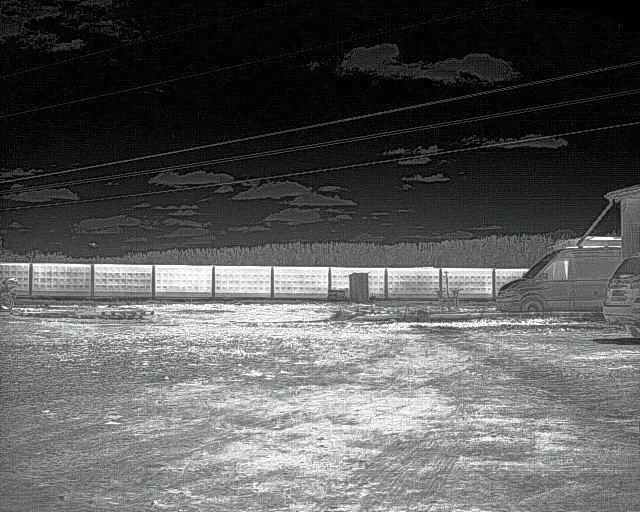ufo-thermal: (87, 239, 100, 249)
